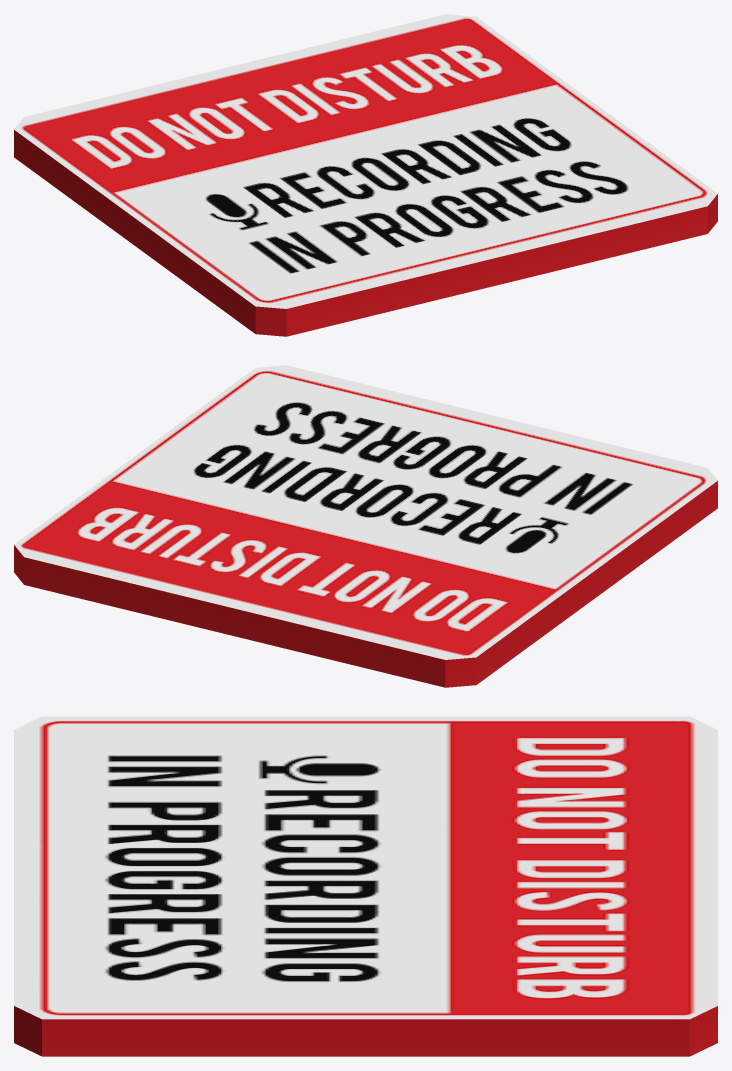
Rendered from Not Disturb Sign.fbx.
The picture shows the model from 3 angles, top to bottom: view 1: azimuth 30°, elevation 25°; view 2: azimuth 150°, elevation 25°; view 3: azimuth 270°, elevation 25°; orthographic projection. The views are drawn at different scales.
Visible parts, largest first — view 1: Not Disturb Sign; view 2: Not Disturb Sign; view 3: Not Disturb Sign.
Part boxes in pixels (<box>): Not Disturb Sign: <box>14,14,717,336</box>; Not Disturb Sign: <box>14,365,717,687</box>; Not Disturb Sign: <box>14,716,717,1056</box>.
Bounding box in the file's own units: 32.25 × 1.85 × 31.69.
